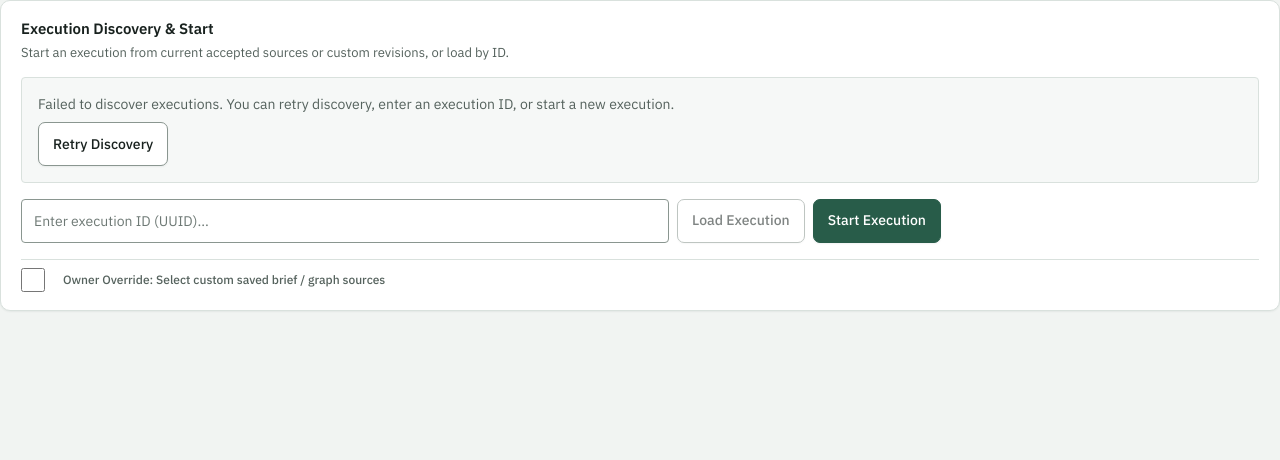
Test: DeliveryWorkspace › shows a definitive missing-producer rejection
Click the button "Start Execution".
click(877, 221)  # box 813,199 -> 941,243
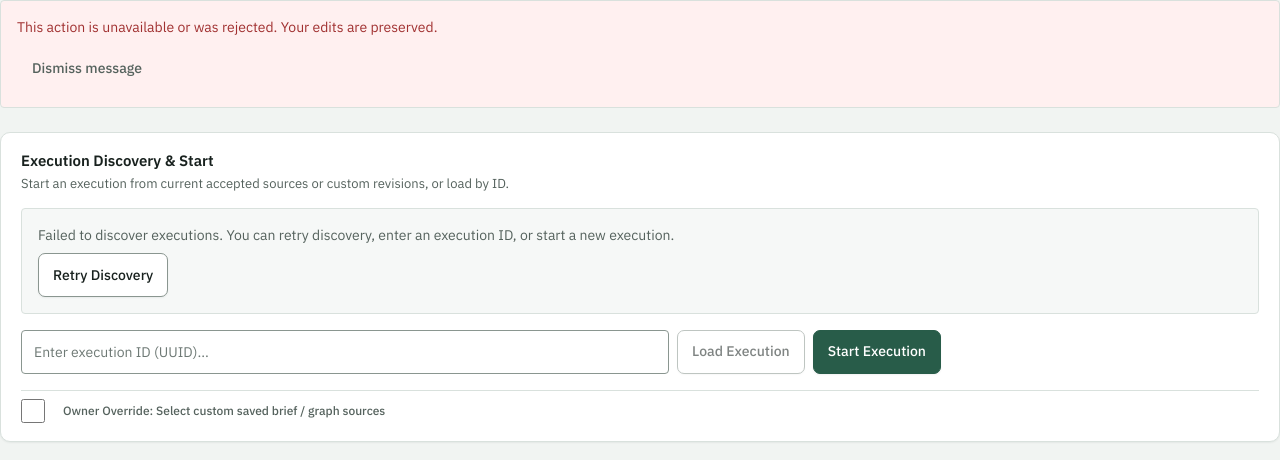
Check: the text "action is unavailable or was rejected" is shown, box 17,18 -> 438,36
